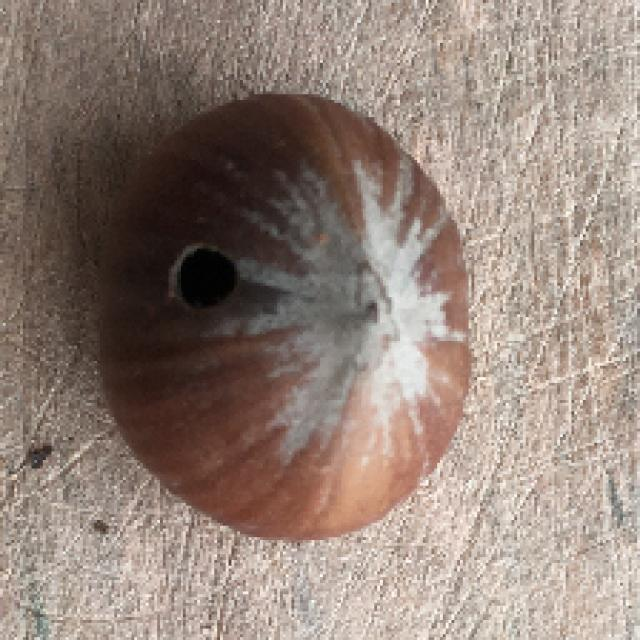damagedHazelnut: (95, 90, 477, 540)
